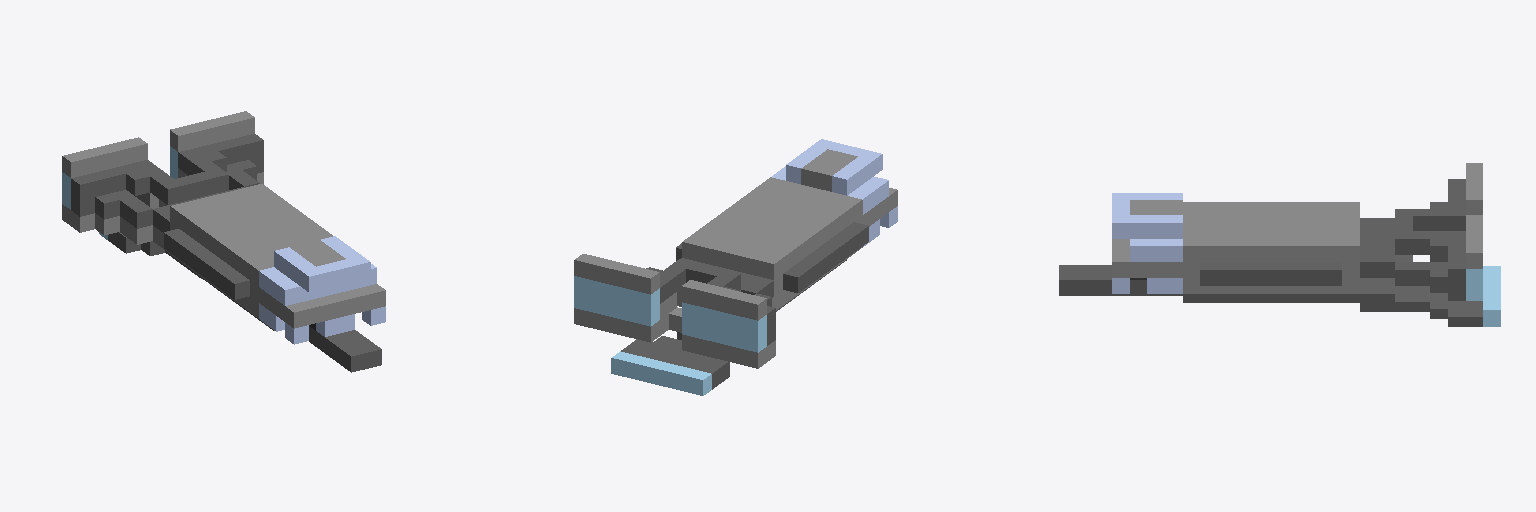
The picture shows the model from 3 angles: view 1: azimuth 30°, elevation 25°; view 2: azimuth 150°, elevation 25°; view 3: azimuth 270°, elevation 25°; orthographic projection.
Size of the model in its own units: 12 by 6 by 25.
Materials: 1 (1 with a texture image).